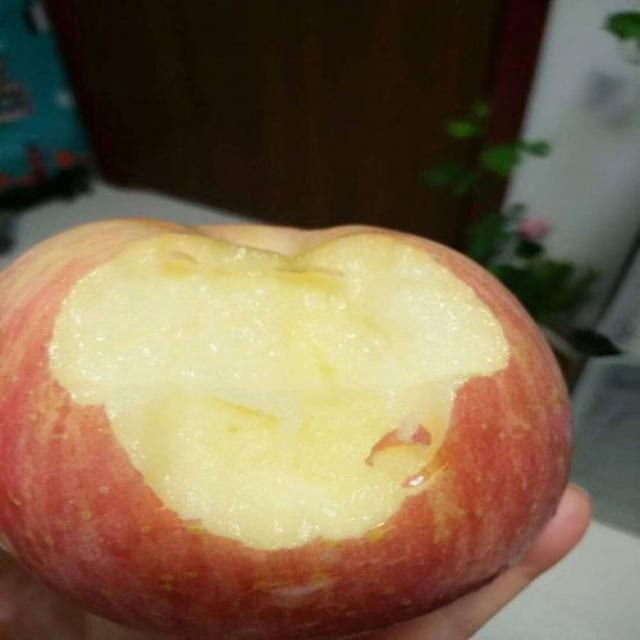Rotten: (8, 214, 577, 640)
